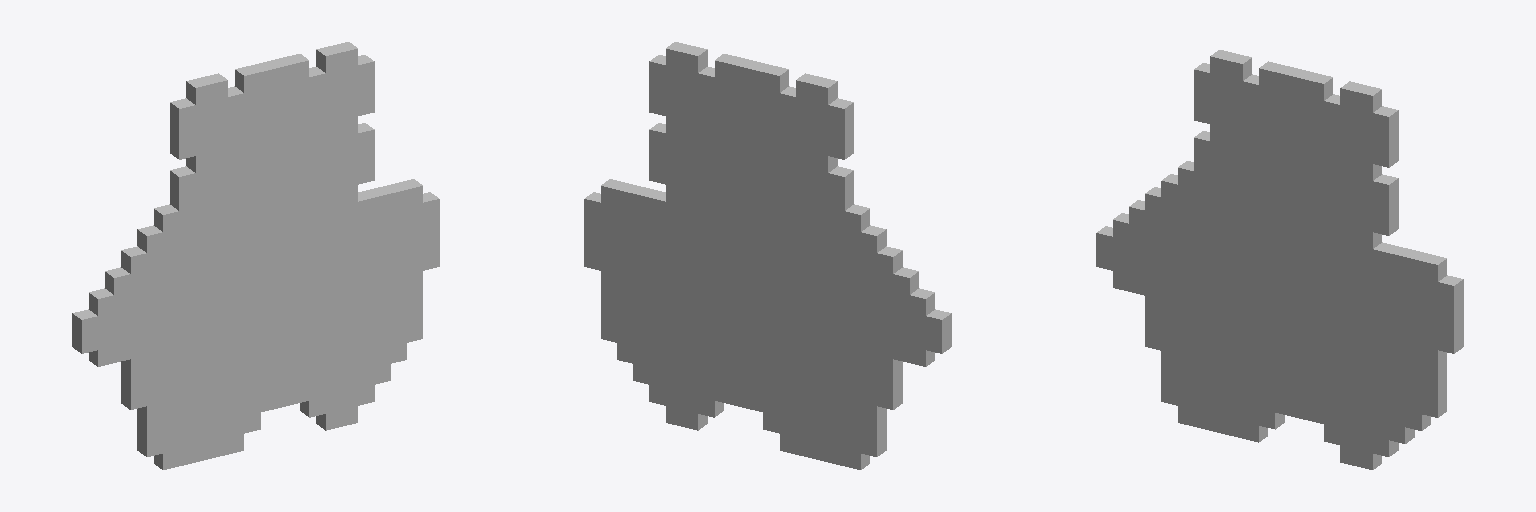
The model's file is bear throw.obj.
The picture shows the model from 3 angles: view 1: azimuth 30°, elevation 25°; view 2: azimuth 150°, elevation 25°; view 3: azimuth 330°, elevation 25°; orthographic projection.
Visible parts, largest first — view 1: object 1; view 2: object 1; view 3: object 1.
Boxes of the visible parts, <box> form: object 1: <box>72,42,439,469</box>; object 1: <box>584,42,951,469</box>; object 1: <box>1096,50,1463,469</box>.
Size of the model in its own units: 2.2 by 2.2 by 0.1.